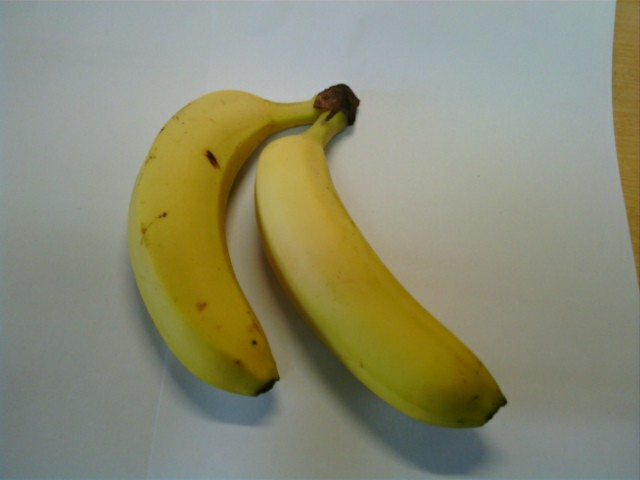fresh_banana: (255, 129, 506, 426)
normal_banana: (131, 87, 279, 395)
